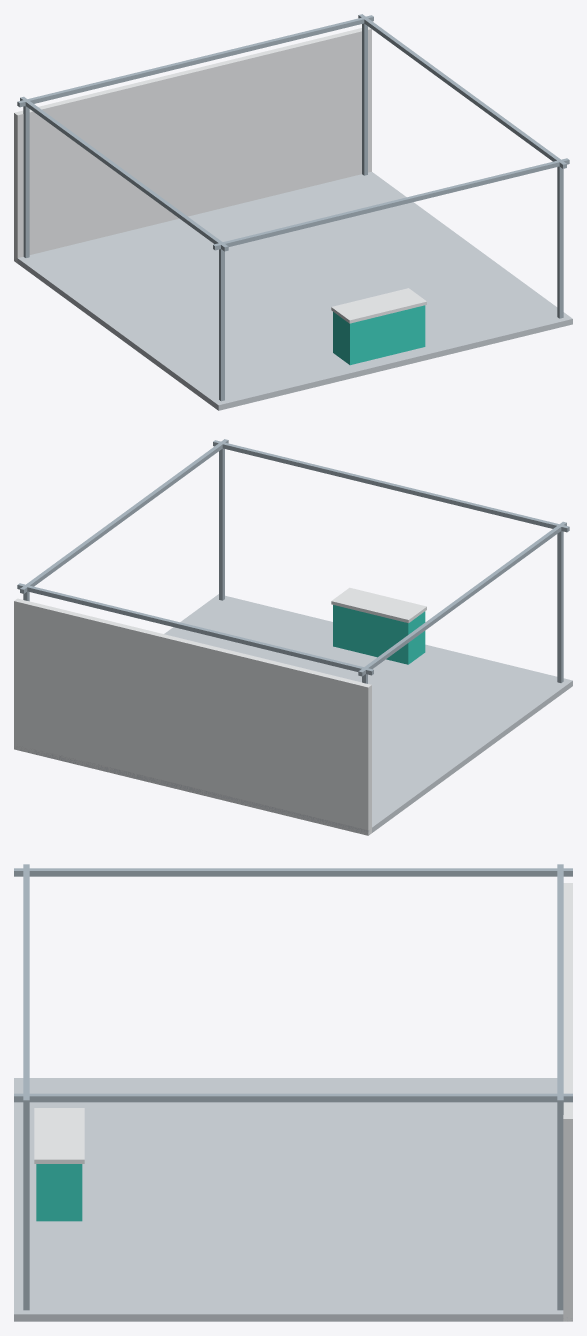
3 renders of one model, top to bottom at view 1: azimuth 30°, elevation 25°; view 2: azimuth 150°, elevation 25°; view 3: azimuth 270°, elevation 25°, orthographic. The views are drawn at different scales.
Visible parts, largest first — view 1: Exhibition Booth Concept; view 2: Exhibition Booth Concept; view 3: Exhibition Booth Concept.
Part boxes in pixels (bbox=[...]): Exhibition Booth Concept: bbox=[14, 14, 572, 410]; Exhibition Booth Concept: bbox=[14, 439, 572, 835]; Exhibition Booth Concept: bbox=[14, 864, 572, 1321].
Bounding box in the file's own units: 8 × 3.49 × 8.
